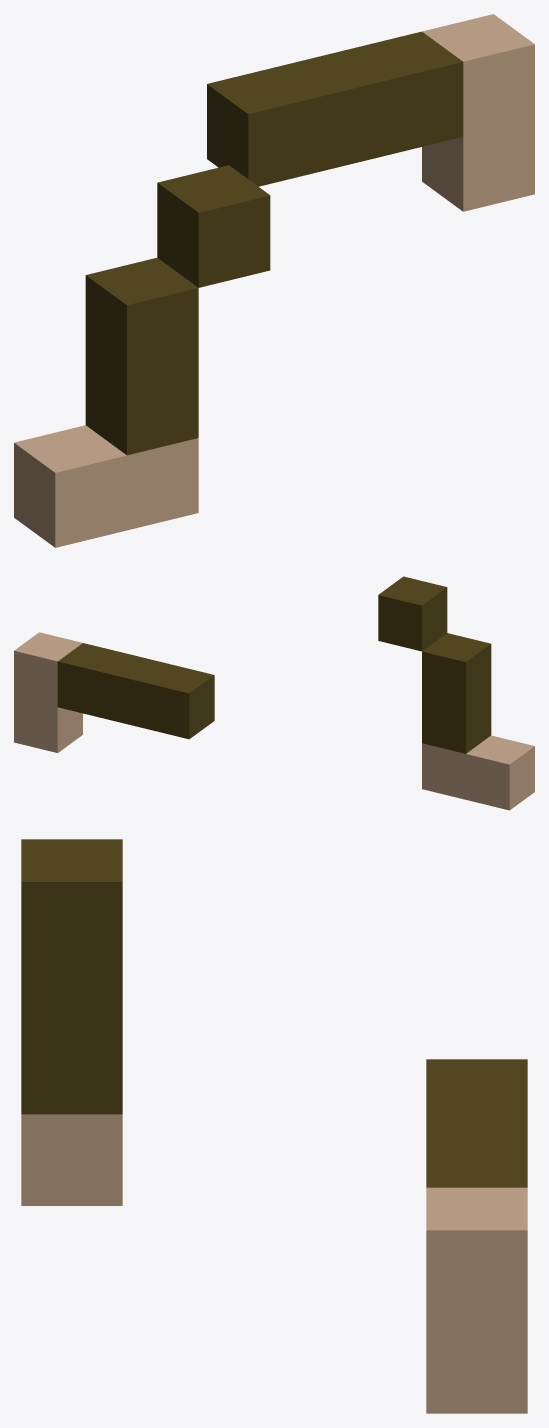
The model's file is orc_9_torso_walk.fbx.
3 renders of one model, top to bottom at view 1: azimuth 30°, elevation 25°; view 2: azimuth 150°, elevation 25°; view 3: azimuth 270°, elevation 25°, orthographic. The views are drawn at different scales.
Visible parts, largest first — view 1: torso_walk.015; view 2: torso_walk.015; view 3: torso_walk.015.
Boxes of the visible parts, x1=… form: torso_walk.015: x1=14, y1=14, x2=534, y2=547; torso_walk.015: x1=14, y1=576, x2=534, y2=810; torso_walk.015: x1=21, y1=839, x2=527, y2=1413.
Size of the model in its own units: 900 by 400 by 500.
